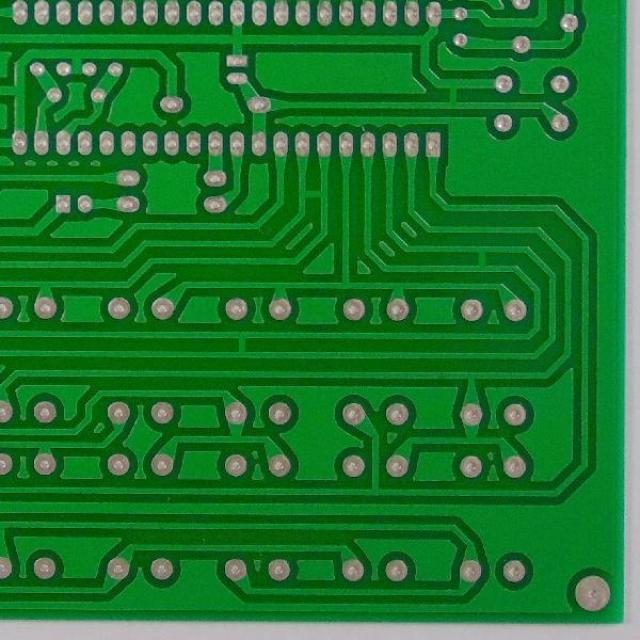short: (439, 75, 466, 111), (472, 241, 493, 277), (232, 330, 255, 362), (294, 186, 331, 204)
